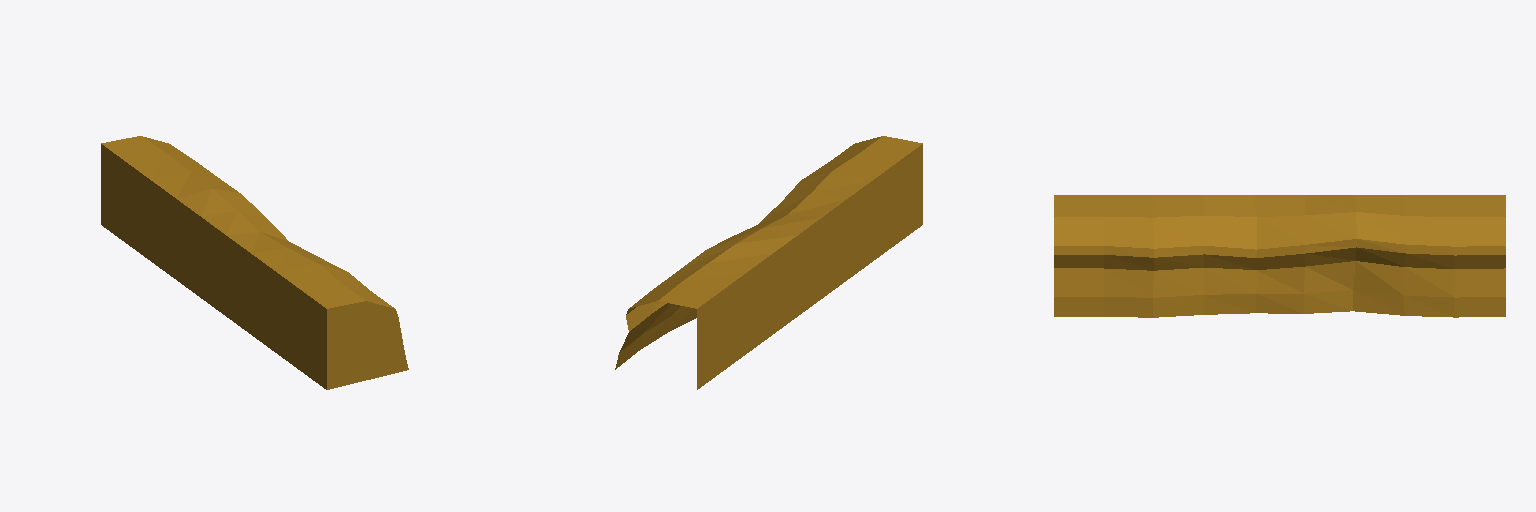
Rendered from scenery_border_1.obj.
3 views of the same model, side by side, from view 1: azimuth 30°, elevation 25°; view 2: azimuth 150°, elevation 25°; view 3: azimuth 270°, elevation 25° (orthographic).
Parts seen in each view (by area): view 1: Plane.024_Plane.043; view 2: Plane.024_Plane.043; view 3: Plane.024_Plane.043.
Boxes of the visible parts, box(x1,y1,x2,y2) form: Plane.024_Plane.043: box(101, 136, 408, 389); Plane.024_Plane.043: box(615, 136, 922, 389); Plane.024_Plane.043: box(1054, 195, 1505, 317).
Size of the model in its own units: 86.32 by 80.54 by 400.